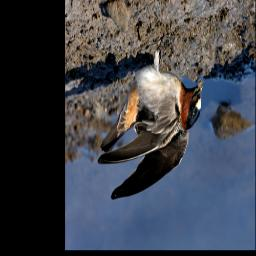Swallow: (98, 32, 203, 201)
